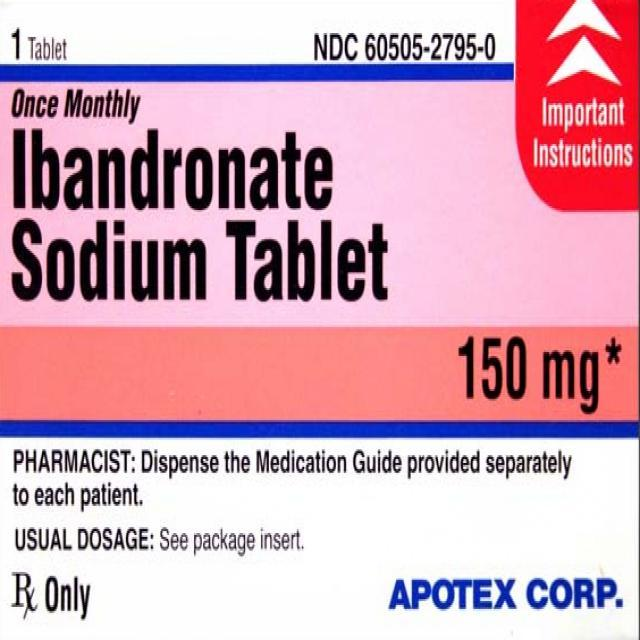drug-name: (11, 121, 334, 212)
